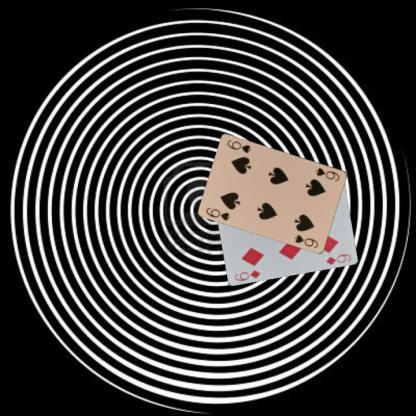6d: (232, 267, 262, 282)
6s: (204, 204, 231, 222), (313, 165, 341, 182)
